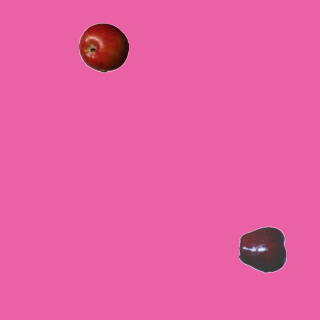Apple Braeburn: (78, 22, 128, 72)
Apple Red Delicious: (238, 224, 288, 274)
